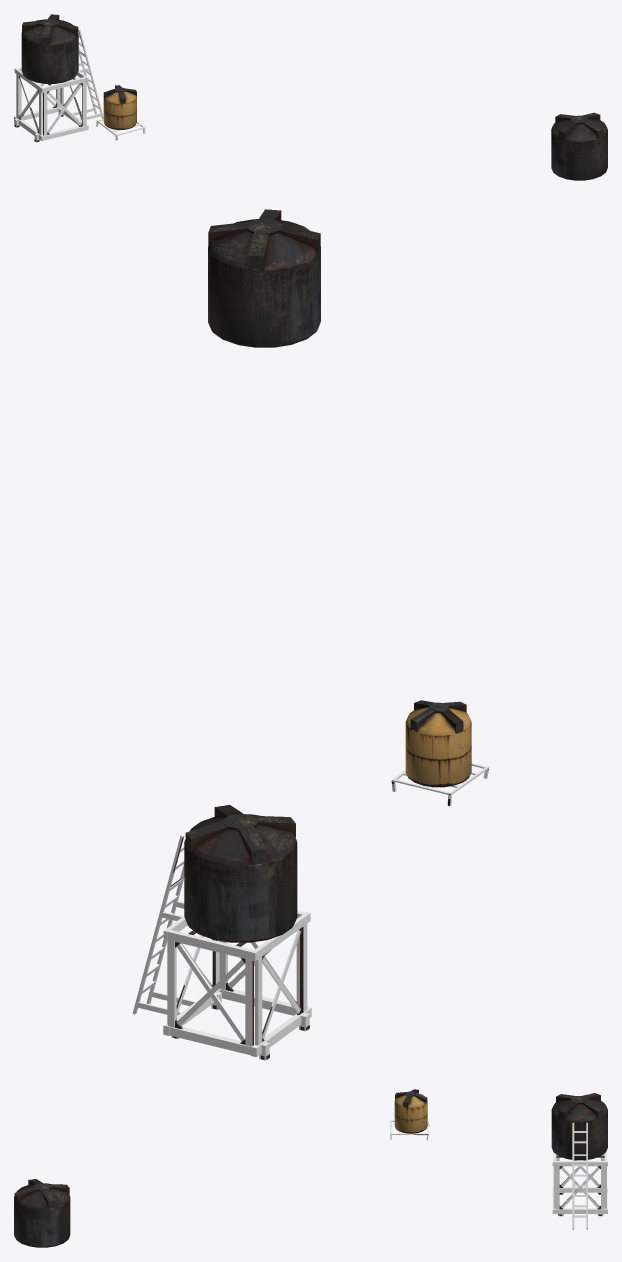
The model's file is Roof Exterior Props(DNH)(Clone).fbx.
3 views of the same model, one above another, from view 1: azimuth 30°, elevation 25°; view 2: azimuth 150°, elevation 25°; view 3: azimuth 270°, elevation 25° (orthographic). The views are drawn at different scales.
Visible parts, largest first — view 1: WaterTank_L (×2), WaterTank_S, Cube (15), Cube (17); view 2: WaterTank_L (×2), WaterTank_S; view 3: WaterTank_L (×2), WaterTank_S, Cube (1), Cube (14), Cube (12).
Boxes of the visible parts, x1,y1,x2,y2 form: WaterTank_L (×2): (21,14,607,180); WaterTank_S: (103,85,136,129); Cube (15): (44,126,87,140); Cube (17): (43,77,85,91); WaterTank_L (×2): (184,209,320,942); WaterTank_S: (405,700,471,787); WaterTank_L (×2): (14,1093,607,1247); WaterTank_S: (394,1089,427,1133); Cube (1): (572,1122,574,1228); Cube (14): (552,1208,607,1213); Cube (12): (552,1161,607,1166).
Size of the model in its own units: 17.59 by 7.78 by 29.15.
